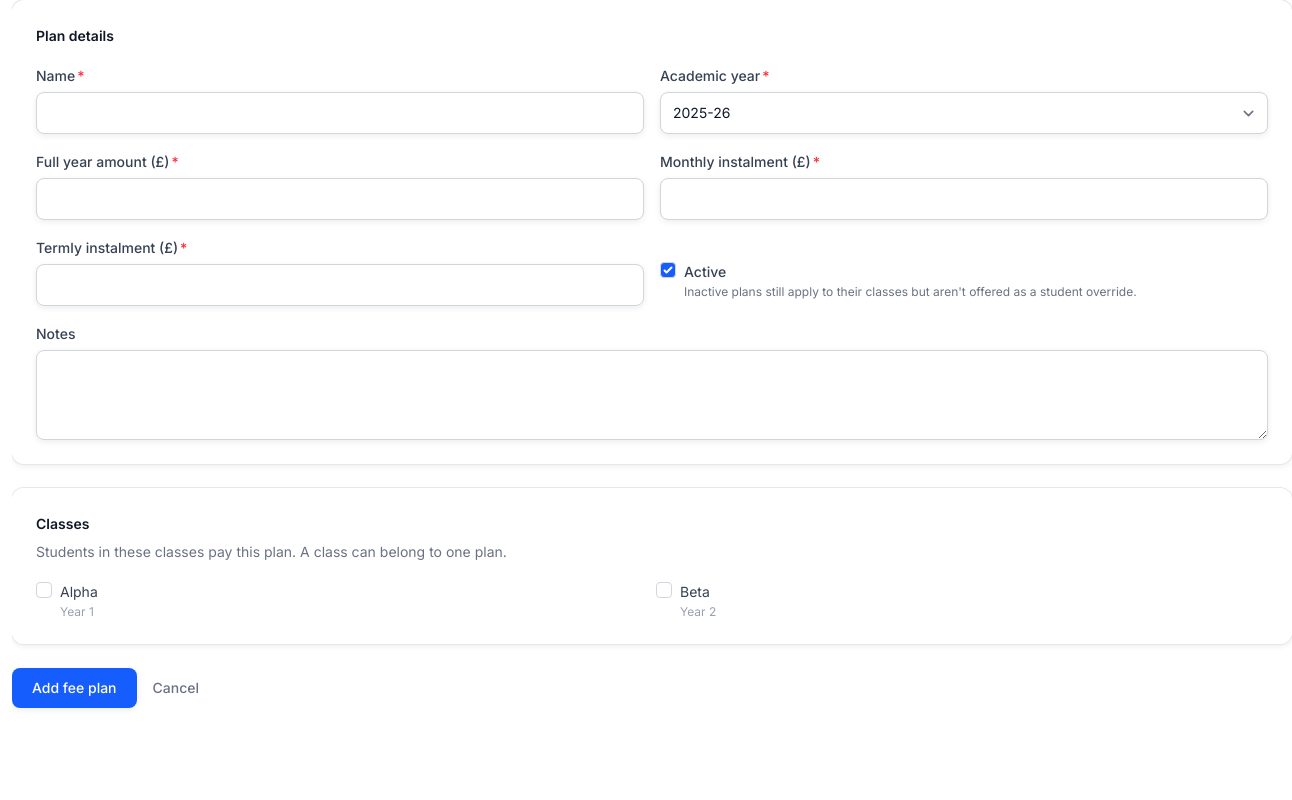
Test: FeePlanForm › switches the class list when the academic year changes
The image size is (1292, 800).
Select "2026-27" in the dropdown labelled "Academic year*" at (964, 113), box x1=660 y1=92 x2=1268 y2=134
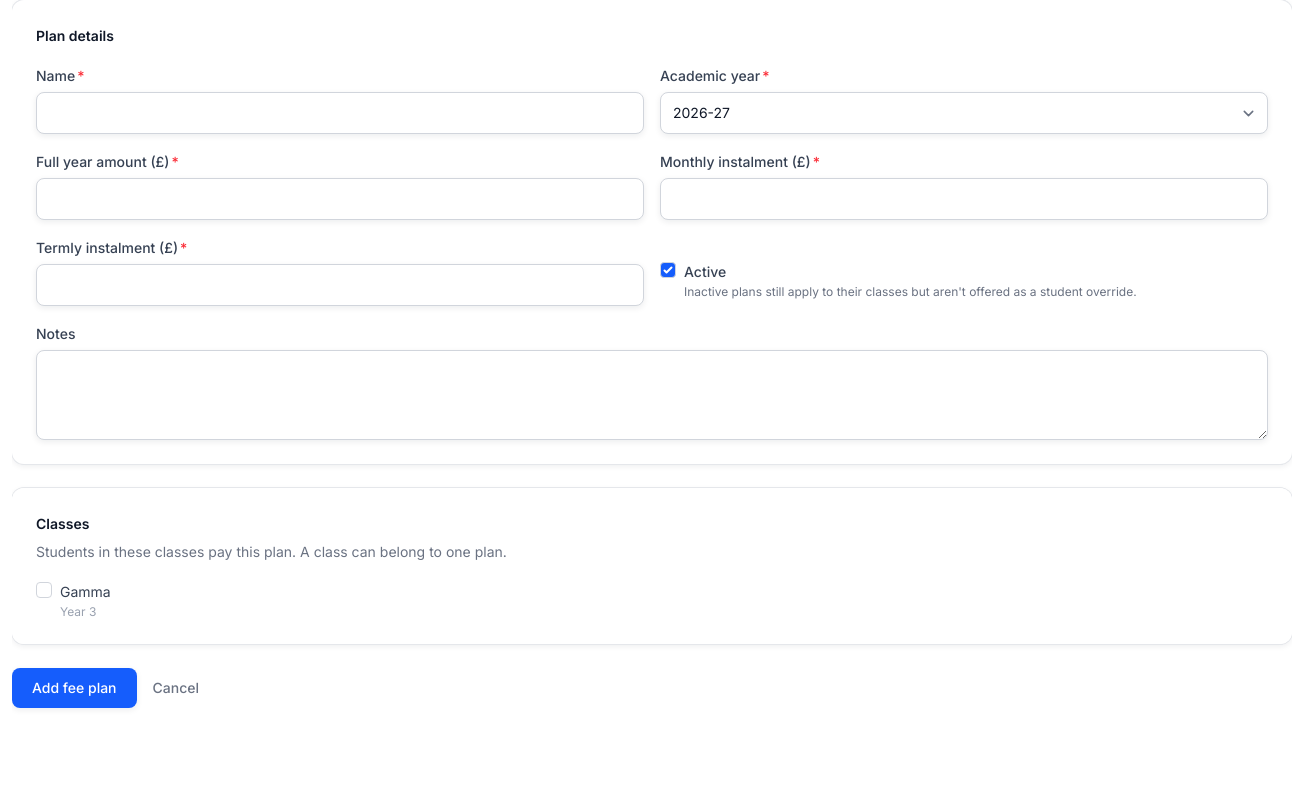
Expected: the checkbox labelled "Gamma Year 3" is shown, x1=36 y1=582 x2=52 y2=598
Expected: the label "Alpha" is gone
